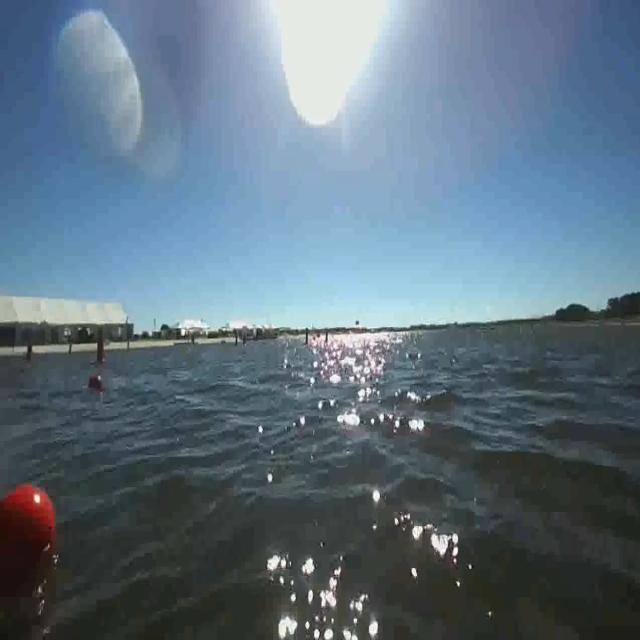red-buoy: (0, 486, 56, 573), (90, 378, 105, 393)
